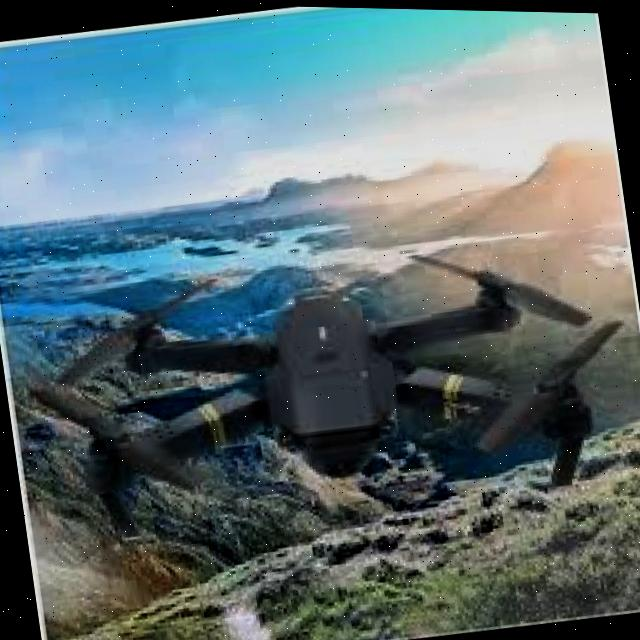drone: (11, 198, 640, 595)
